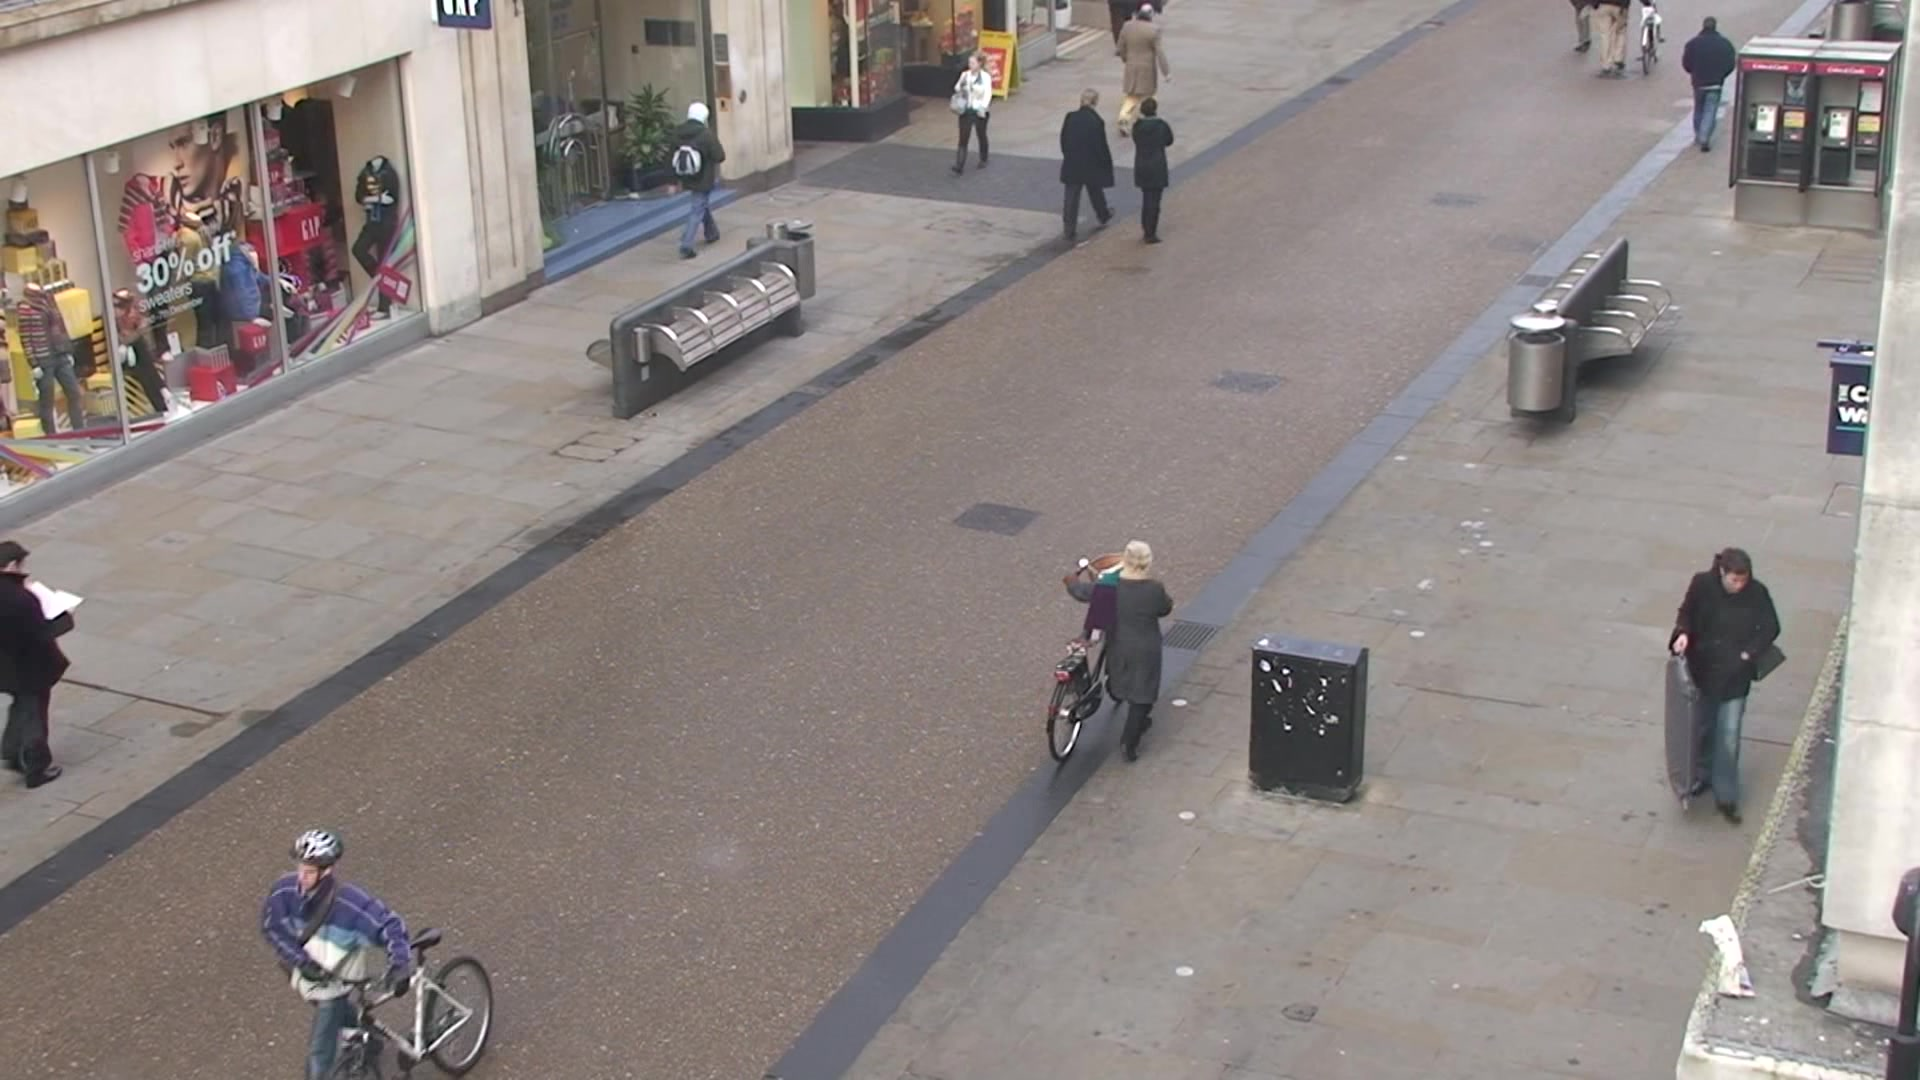person: (260, 826, 411, 1080), (1669, 547, 1786, 831), (1063, 538, 1174, 766), (1056, 89, 1115, 247), (669, 102, 727, 262), (1115, 4, 1173, 138), (1683, 17, 1736, 156), (1132, 98, 1177, 244), (948, 52, 993, 175)
